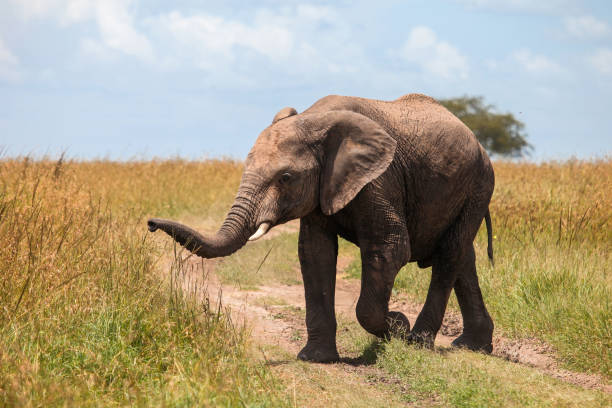africanelephant: (190, 125, 399, 259)
